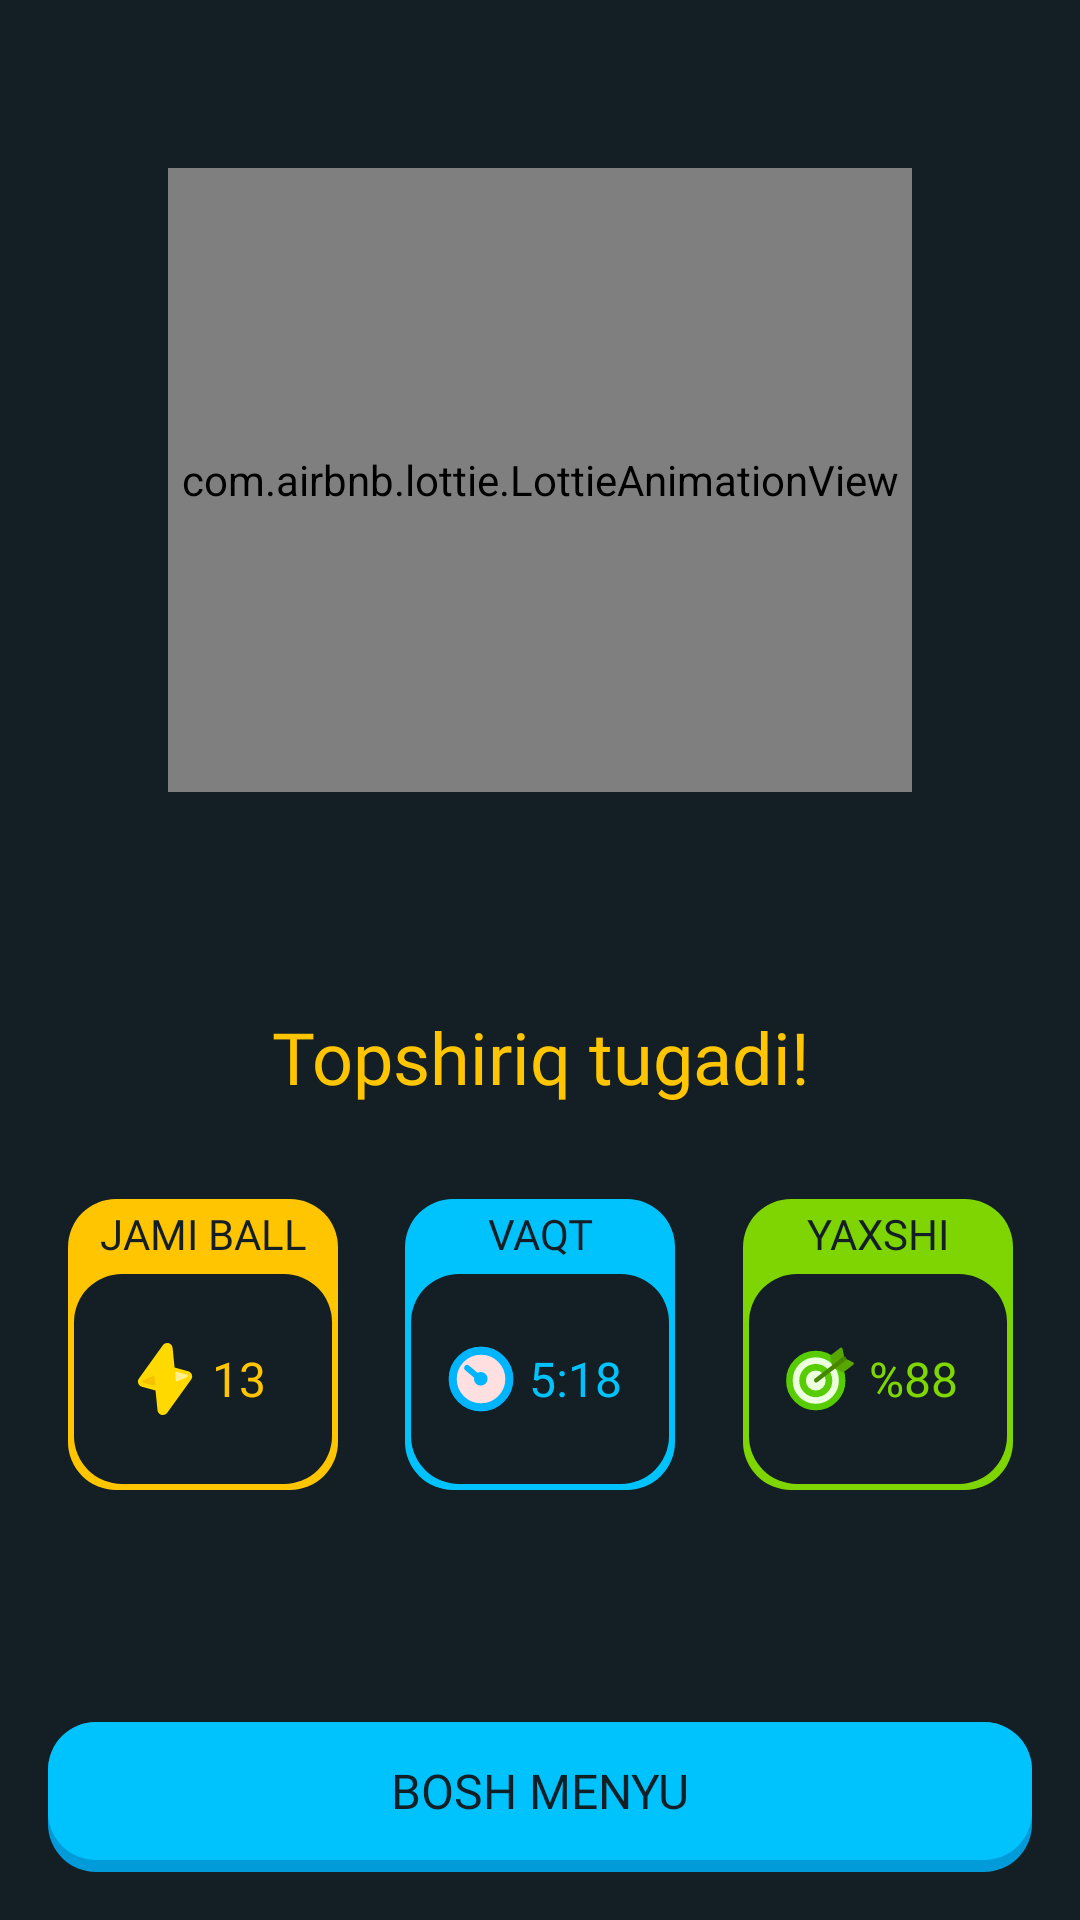

Where icons sit on this 1080px×1920px app screen, as (x1, y1, x2, y2):
accuracy: (786, 1347, 854, 1411)
flash: (138, 1343, 193, 1415)
timer: (448, 1346, 514, 1412)
